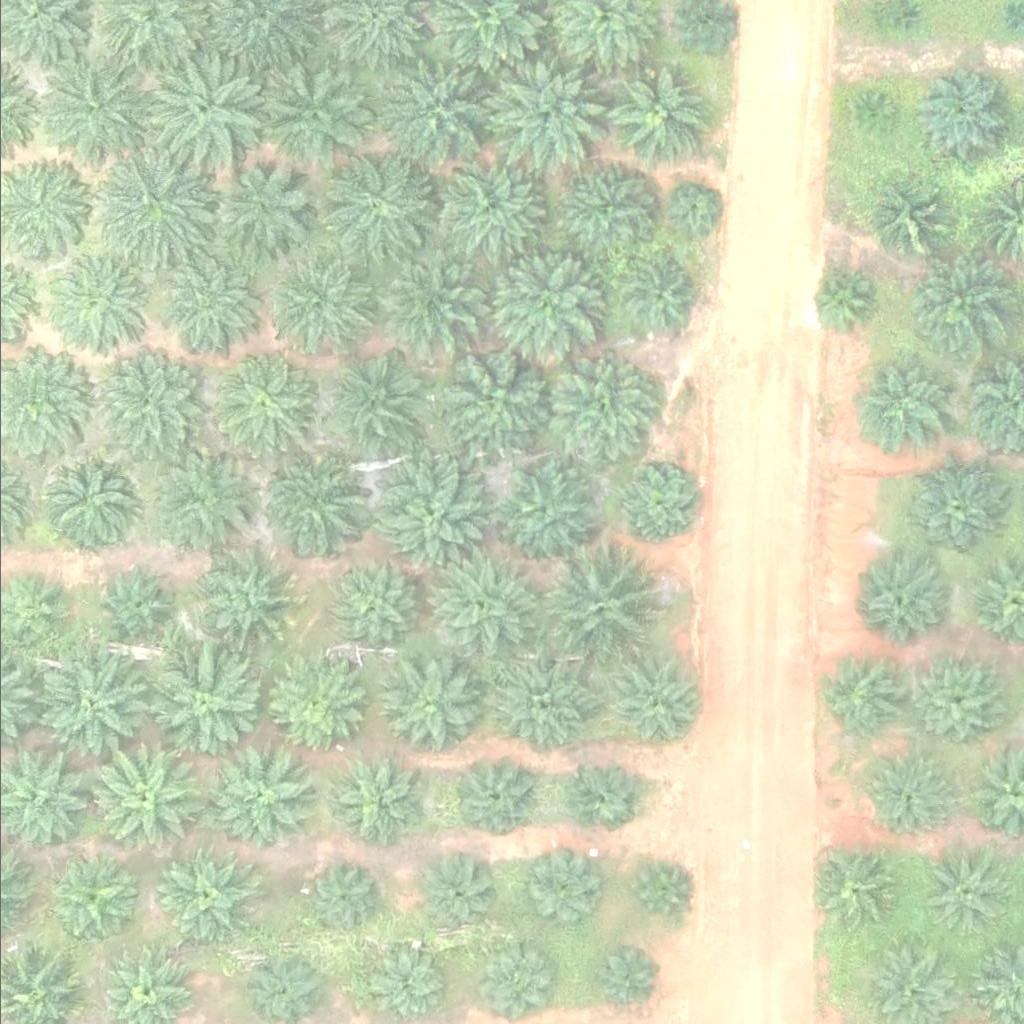Kelapa_Sawit: (375, 42, 501, 167), (144, 52, 270, 177), (313, 147, 439, 272), (88, 142, 214, 267), (540, 347, 666, 472), (429, 335, 555, 460), (82, 340, 208, 465), (365, 455, 491, 580), (539, 546, 665, 671), (416, 542, 542, 667), (140, 644, 266, 769), (27, 644, 153, 769), (80, 736, 206, 861), (30, 48, 156, 173), (422, 143, 547, 268), (488, 56, 601, 169), (256, 57, 369, 170), (200, 152, 313, 265), (146, 251, 259, 364), (38, 239, 151, 352), (903, 56, 1016, 168), (485, 245, 598, 357), (373, 246, 486, 358), (906, 257, 1007, 357), (851, 356, 952, 456), (606, 67, 707, 167), (552, 156, 653, 256), (318, 355, 419, 455), (217, 356, 318, 456), (262, 463, 363, 563), (157, 451, 258, 551), (194, 554, 295, 654), (40, 447, 141, 547), (903, 462, 1003, 562), (852, 554, 952, 654), (906, 656, 1006, 756), (494, 461, 594, 561), (602, 651, 702, 751), (486, 655, 586, 755), (379, 655, 479, 755), (262, 657, 362, 757), (206, 748, 306, 848), (155, 842, 255, 942), (862, 755, 950, 843), (922, 851, 1010, 939), (812, 848, 900, 936), (275, 258, 363, 346), (328, 757, 416, 845), (43, 855, 131, 943), (449, 752, 537, 839), (815, 656, 903, 743), (324, 563, 412, 650), (370, 946, 446, 1021), (422, 856, 498, 931), (303, 861, 379, 936), (621, 468, 697, 543), (561, 756, 637, 831), (520, 854, 595, 929), (478, 947, 553, 1022), (868, 187, 943, 262), (619, 259, 694, 334), (94, 565, 169, 640), (807, 266, 870, 329), (626, 859, 689, 921), (593, 949, 656, 1011), (665, 184, 715, 234), (856, 96, 894, 134)
